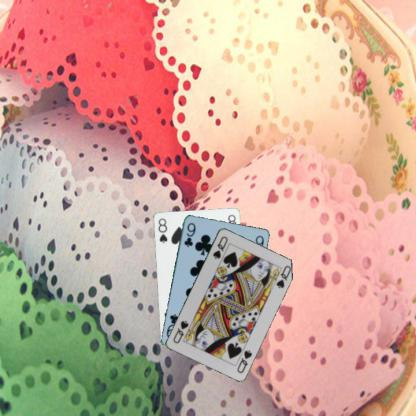8s: (156, 215, 168, 244)
9c: (181, 220, 197, 248)
Qs: (210, 233, 229, 260), (235, 348, 253, 375)
